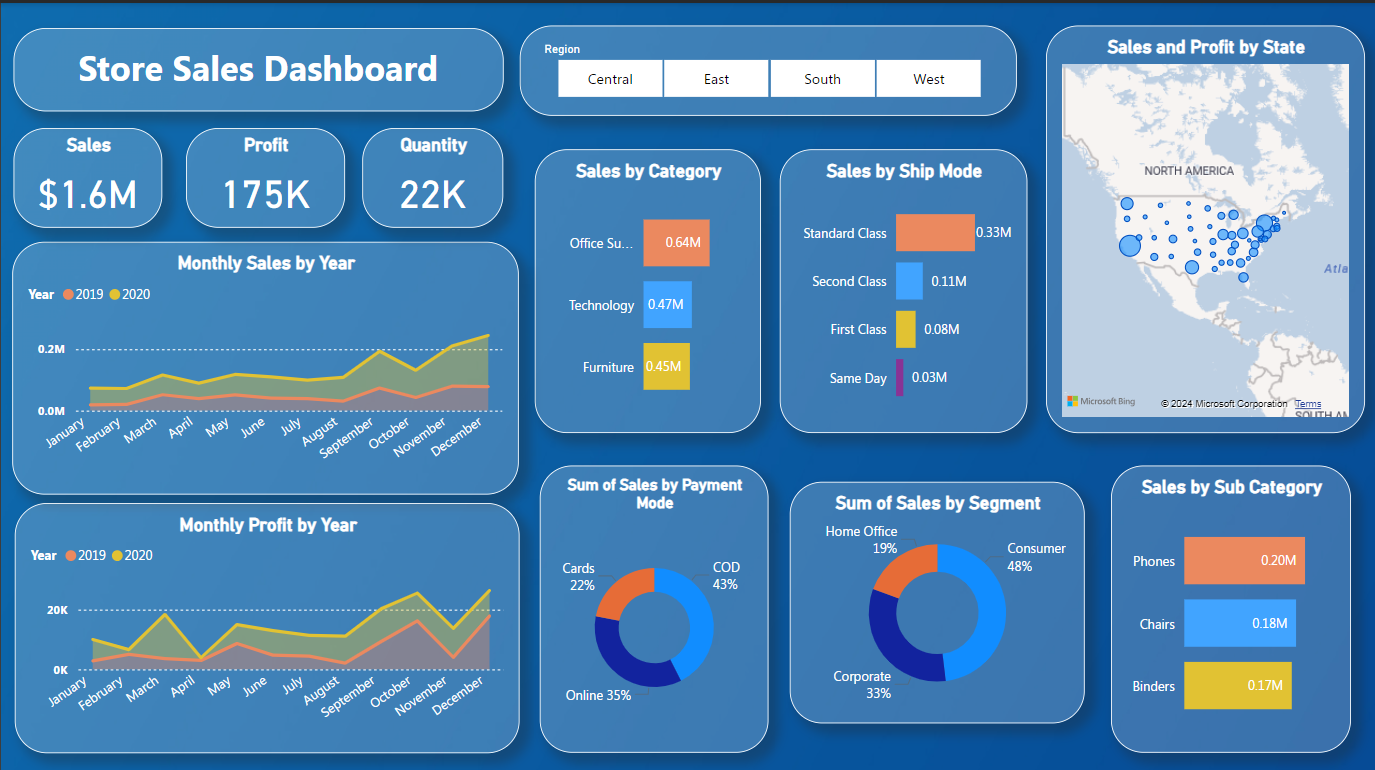

The page's visual inventory and layout, read from the dashboard file:
{"tool":"powerbi","page":{"name":"Page 1","canvas":[1280,720],"ordinal":0},"visuals":[{"type":"clusteredBarChart","title":"Sales by Category","fields":{"Category":["SuperStore_Sales_Dataset.Category"],"Y":["Sum(SuperStore_Sales_Dataset.Sales)"]},"box":[496.5,136,210.5,264],"z":0},{"type":"clusteredBarChart","title":"Sales by Sub Category","fields":{"Y":["Sum(SuperStore_Sales_Dataset.Sales)"],"Category":["SuperStore_Sales_Dataset.Sub-Category"]},"box":[1032.6,430.2,223.3,267.4],"z":1000},{"type":"clusteredBarChart","title":"Sales by Ship Mode","fields":{"Y":["Sum(SuperStore_Sales_Dataset.Sales)"],"Category":["SuperStore_Sales_Dataset.Ship Mode"]},"box":[724.4,136,230.2,264],"z":2000},{"type":"stackedAreaChart","title":"Monthly Sales by Year","fields":{"Y":["Sum(SuperStore_Sales_Dataset.Sales)"],"Category":["SuperStore_Sales_Dataset.Order Date.Variation.Date Hierarchy.Month","SuperStore_Sales_Dataset.Order Date.Variation.Date Hierarchy.Day"],"Series":["SuperStore_Sales_Dataset.Order Date.Variation.Date Hierarchy.Year"]},"box":[10.5,222.1,470.9,234.9],"z":3000},{"type":"stackedAreaChart","title":"Monthly Profit by Year","fields":{"Category":["SuperStore_Sales_Dataset.Order Date.Variation.Date Hierarchy.Month","SuperStore_Sales_Dataset.Order Date.Variation.Date Hierarchy.Day"],"Series":["SuperStore_Sales_Dataset.Order Date.Variation.Date Hierarchy.Year"],"Y":["Sum(SuperStore_Sales_Dataset.Profit)"]},"box":[12.8,465.1,469.8,232.6],"z":4000},{"type":"map","title":"Sales and Profit by State","fields":{"Category":["SuperStore_Sales_Dataset.State"],"Size":["Sum(SuperStore_Sales_Dataset.Sales)"]},"box":[972.1,20.9,296.5,379.1],"z":5000},{"type":"donutChart","fields":{"Y":["Sum(SuperStore_Sales_Dataset.Sales)"],"Category":["SuperStore_Sales_Dataset.Segment"]},"box":[733.7,445.4,274.4,224.4],"z":6000},{"type":"donutChart","fields":{"Y":["Sum(SuperStore_Sales_Dataset.Sales)"],"Category":["SuperStore_Sales_Dataset.Payment Mode","SuperStore_Sales_Dataset.Segment"]},"box":[501.2,430.2,212.8,267.4],"z":7000},{"type":"slicer","fields":{"Values":["SuperStore_Sales_Dataset.Region"]},"box":[482.6,20.9,462.8,83.7],"z":8000},{"type":"textbox","box":[11.6,23.3,455.8,77.9],"z":9000},{"type":"card","title":"Sales","fields":{"Values":["Sum(SuperStore_Sales_Dataset.Sales)"]},"box":[11.6,116.3,138.4,93],"z":10000},{"type":"card","title":"Quantity","fields":{"Values":["Sum(SuperStore_Sales_Dataset.Quantity)"]},"box":[336,116.3,131.4,93],"z":11000},{"type":"card","title":"Profit","fields":{"Values":["Sum(SuperStore_Sales_Dataset.Profit)"]},"box":[172.1,116.3,147.7,93],"z":12000}]}

Visuals, with their boxes in screenshot pixels (x1, y1, x2, y2), scaled from the page's 1280x720 canvas onto the 1375x770 screenshot:
"Sales by Category" clusteredBarChart: bbox=(533, 145, 759, 428)
"Sales by Sub Category" clusteredBarChart: bbox=(1109, 460, 1349, 746)
"Sales by Ship Mode" clusteredBarChart: bbox=(778, 145, 1025, 428)
"Monthly Sales by Year" stackedAreaChart: bbox=(11, 238, 517, 489)
"Monthly Profit by Year" stackedAreaChart: bbox=(14, 497, 518, 746)
"Sales and Profit by State" map: bbox=(1044, 22, 1363, 428)
donutChart - Sum(SuperStore_Sales_Dataset.Sales) x SuperStore_Sales_Dataset.Segment: bbox=(788, 476, 1083, 716)
donutChart - Sum(SuperStore_Sales_Dataset.Sales) x SuperStore_Sales_Dataset.Payment Mode: bbox=(538, 460, 767, 746)
slicer - SuperStore_Sales_Dataset.Region: bbox=(518, 22, 1016, 112)
textbox: bbox=(12, 25, 502, 108)
"Sales" card: bbox=(12, 124, 161, 224)
"Quantity" card: bbox=(361, 124, 502, 224)
"Profit" card: bbox=(185, 124, 344, 224)
